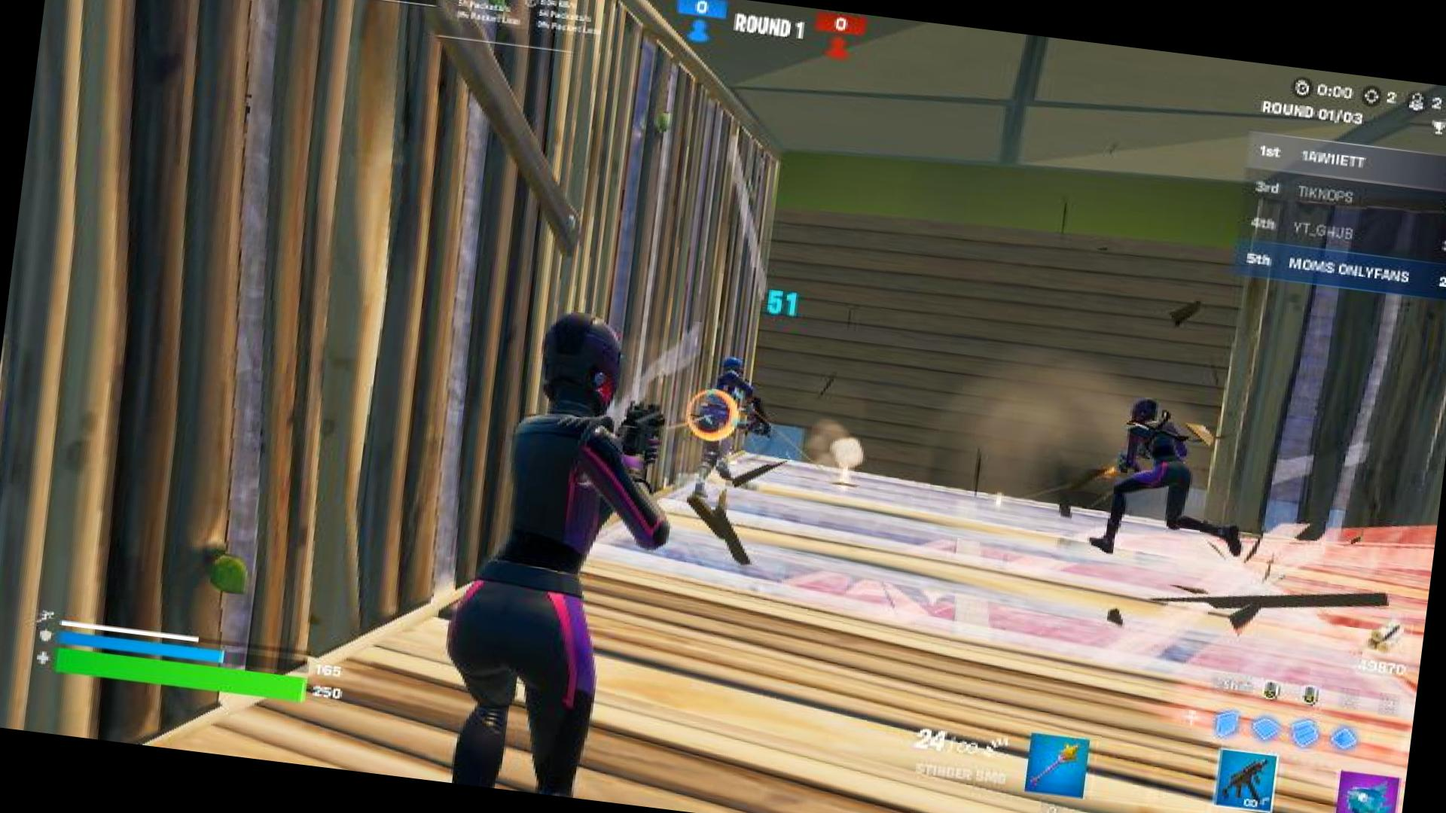player: (1070, 382, 1269, 580), (674, 342, 790, 533)
